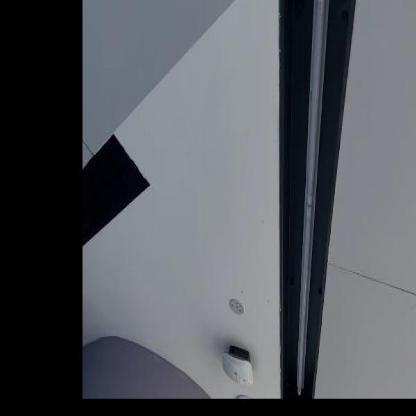light_off: (288, 0, 341, 391)
